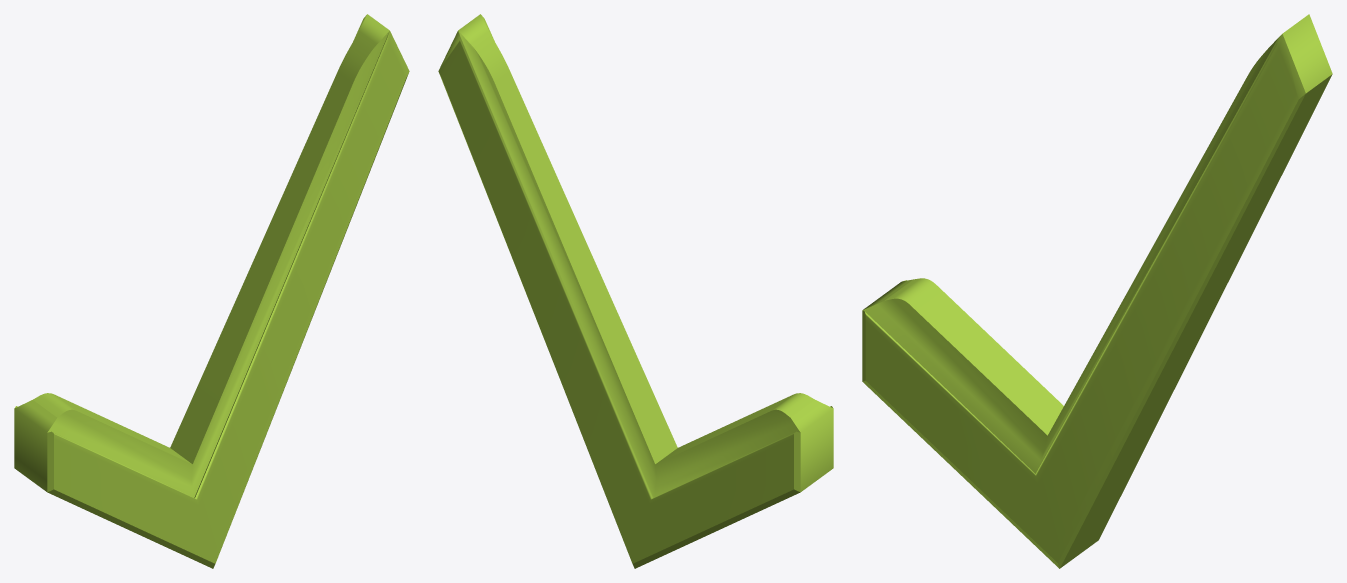
File: vpchecked.obj
3 views of the same model, side by side, from view 1: azimuth 30°, elevation 25°; view 2: azimuth 150°, elevation 25°; view 3: azimuth 330°, elevation 25° (orthographic). The views are drawn at different scales.
Visible parts, largest first — view 1: pCube1; view 2: pCube1; view 3: pCube1.
Boxes of the visible parts, bbox=[...] form: pCube1: bbox=[14, 14, 409, 568]; pCube1: bbox=[438, 14, 833, 568]; pCube1: bbox=[862, 14, 1332, 568].
Size of the model in its own units: 3.66 by 4.66 by 0.6332.
